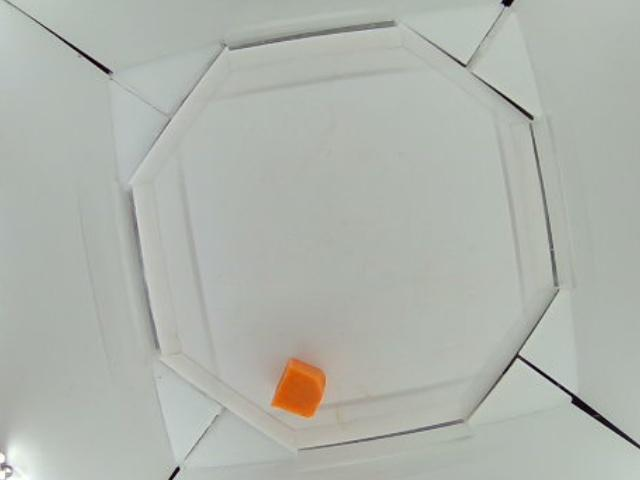Carrot: (271, 357, 327, 418)
